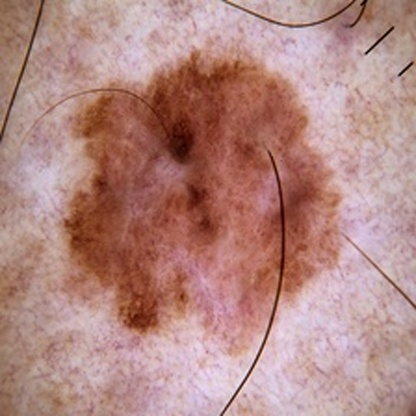malignant: (75, 95, 315, 295)
